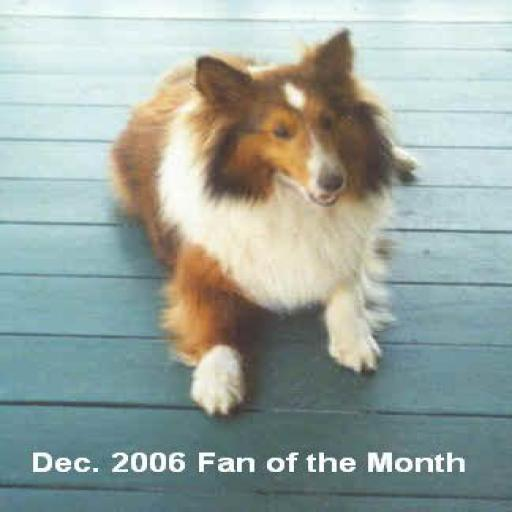dog_face: (174, 31, 382, 219)
